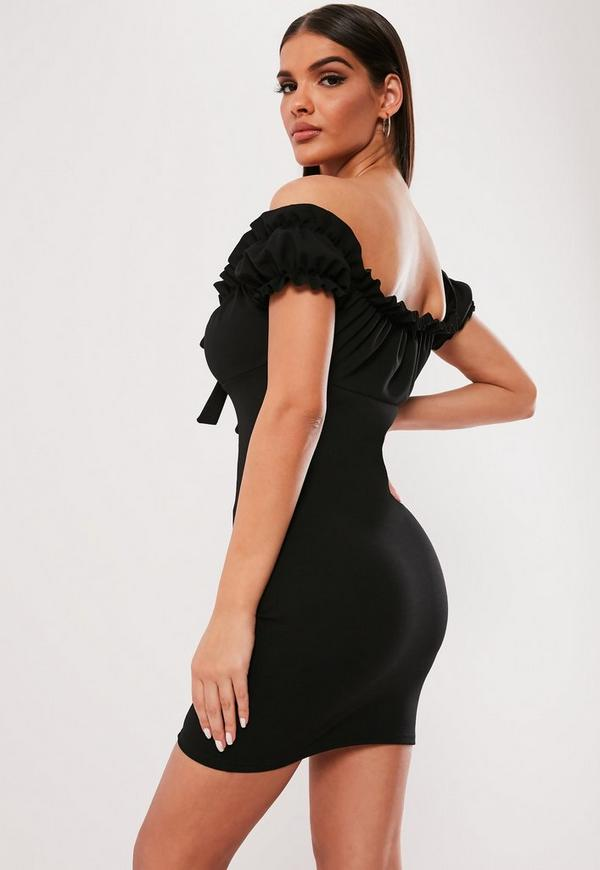S_dress: (168, 238, 495, 769)
